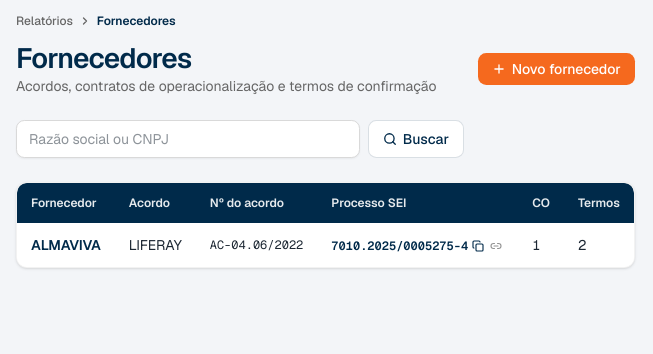
FornecedoresPage › busca por razão social ou CNPJ
Expected: the link "ALMAVIVA" is shown, [31,236,101,254]
Type "safe" into the search field named "Buscar fornecedor" at (188, 139), box [16,120,360,158]
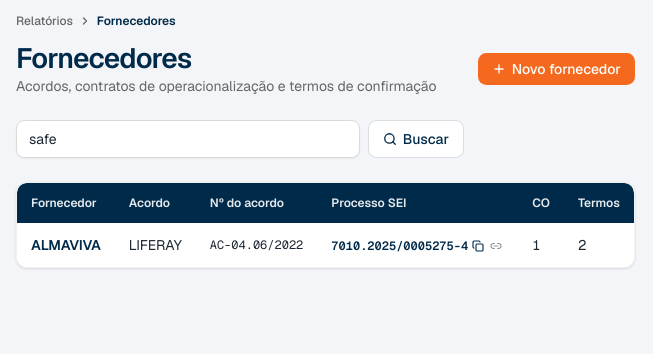
Submit the form, box [16,120,464,158]
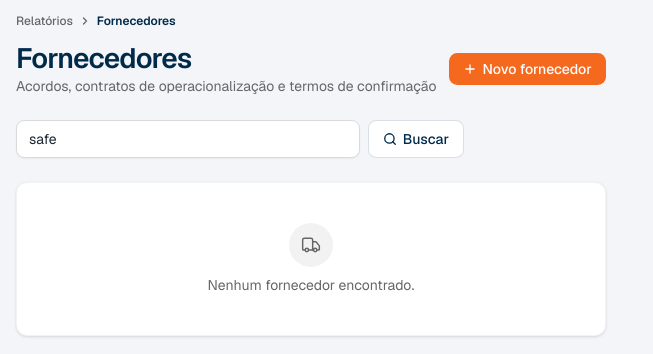
Expected: the text "Nenhum fornecedor encontrado." is shown, [208,275,414,295]
